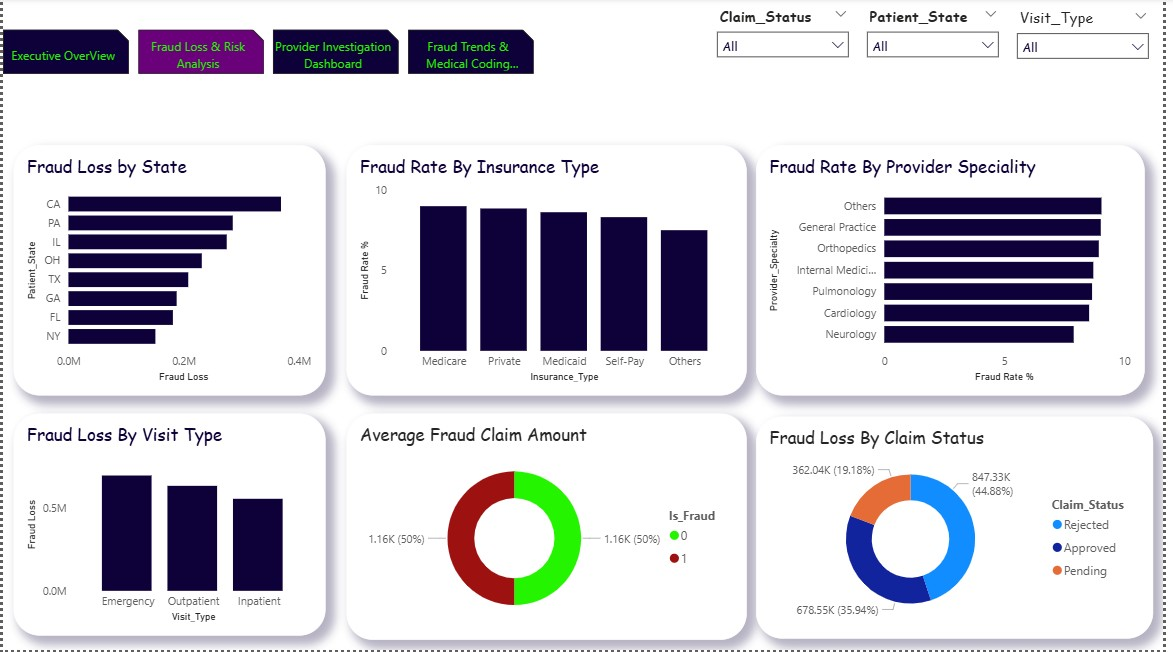

This screenshot's page, from the dashboard's own definition file:
{"tool":"powerbi","page":{"name":"Fraud Loss & Risk Analysis","canvas":[1280,720],"ordinal":1},"visuals":[{"type":"slicer","fields":{"Values":["Health_Care_Fraud_Detection.Claim_Status"]},"box":[778.5,3.3,165.6,67.9],"z":0,"group":"g1"},{"type":"clusteredBarChart","title":"Fraud Loss by State","fields":{"Category":["Health_Care_Fraud_Detection.Patient_State"],"Y":["Health_Care_Fraud_Detection.Fraud Loss"]},"box":[11.6,162.3,344.5,276.6],"z":0},{"type":"clusteredColumnChart","title":"Fraud Rate By Insurance Type","fields":{"Y":["Health_Care_Fraud_Detection.Fraud Rate %"],"Category":["Health_Care_Fraud_Detection.Insurance_Type"]},"box":[379.3,162.3,442.3,276.6],"z":1},{"type":"clusteredBarChart","title":"Fraud Rate By Provider Speciality","fields":{"Y":["Health_Care_Fraud_Detection.Fraud Rate %"],"Category":["Health_Care_Fraud_Detection.Provider_Specialty"]},"box":[831.6,162.3,429,276.6],"z":2},{"type":"donutChart","title":"Average Fraud Claim Amount ","fields":{"Category":["Health_Care_Fraud_Detection.Is_Fraud"],"Y":["Health_Care_Fraud_Detection.Avg Fraud Claim Amount"]},"box":[379.3,458.8,442.3,250.1],"z":3},{"type":"clusteredColumnChart","title":"Fraud Loss By Visit Type","fields":{"Category":["Health_Care_Fraud_Detection.Visit_Type"],"Y":["Health_Care_Fraud_Detection.Fraud Loss"]},"box":[11.6,458.8,344.5,245.2],"z":4},{"type":"donutChart","title":"Fraud Loss By Claim Status","fields":{"Y":["Health_Care_Fraud_Detection.Fraud Loss"],"Category":["Health_Care_Fraud_Detection.Claim_Status"]},"box":[831.6,462.2,439,245.2],"z":6},{"type":"pageNavigator","box":[0,34.8,588.1,49.7],"z":7},{"type":"group","id":"g1","title":"Group 1","box":[778.5,3.3,496.9,69.6],"z":8},{"type":"slicer","fields":{"Values":["Health_Care_Fraud_Detection.Patient_State"]},"box":[944.1,3.3,165.6,67.9],"z":1000,"group":"g1"},{"type":"slicer","fields":{"Values":["Health_Care_Fraud_Detection.Visit_Type"]},"box":[1109.8,5,165.6,67.9],"z":2000,"group":"g1"}]}

Visuals, with their boxes in screenshot pixels (x1, y1, x2, y2), scaled from the page's 1280x720 canvas onto the 1173x652 screenshot:
slicer - Health_Care_Fraud_Detection.Claim_Status: bbox=(713, 3, 865, 64)
"Fraud Loss by State" clusteredBarChart: bbox=(11, 147, 326, 397)
"Fraud Rate By Insurance Type" clusteredColumnChart: bbox=(348, 147, 753, 397)
"Fraud Rate By Provider Speciality" clusteredBarChart: bbox=(762, 147, 1155, 397)
"Average Fraud Claim Amount " donutChart: bbox=(348, 415, 753, 642)
"Fraud Loss By Visit Type" clusteredColumnChart: bbox=(11, 415, 326, 638)
"Fraud Loss By Claim Status" donutChart: bbox=(762, 419, 1164, 641)
pageNavigator: bbox=(0, 32, 539, 77)
"Group 1" group: bbox=(713, 3, 1169, 66)
slicer - Health_Care_Fraud_Detection.Patient_State: bbox=(865, 3, 1017, 64)
slicer - Health_Care_Fraud_Detection.Visit_Type: bbox=(1017, 5, 1169, 66)
